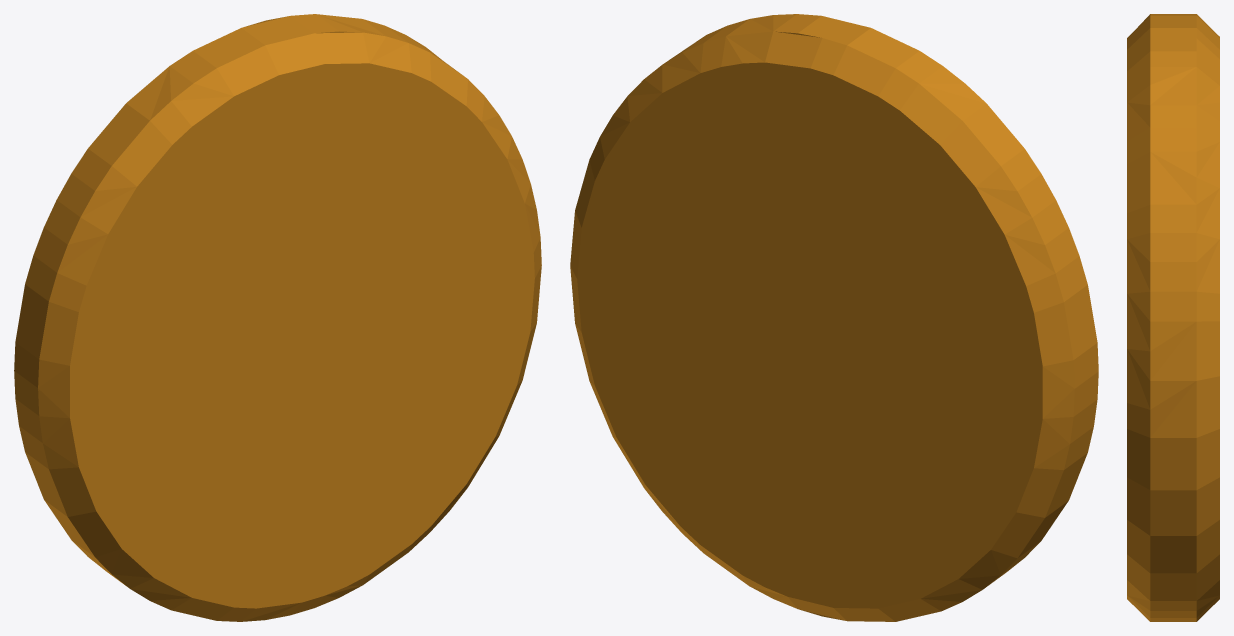
The model's file is gold_coin_2.glb.
3 views of the same model, side by side, from view 1: azimuth 30°, elevation 25°; view 2: azimuth 150°, elevation 25°; view 3: azimuth 270°, elevation 25° (orthographic). The views are drawn at different scales.
Visible parts, largest first — view 1: Cylinder; view 2: Cylinder; view 3: Cylinder.
Boxes of the visible parts, x1,y1,x2,y2 form: Cylinder: [14, 14, 541, 621]; Cylinder: [570, 14, 1098, 621]; Cylinder: [1127, 14, 1219, 621].
Size of the model in its own units: 1.83 by 2 by 0.3.
